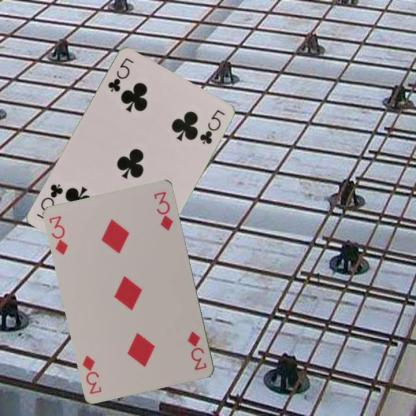3d: (47, 213, 70, 257), (185, 329, 208, 372)
5c: (105, 55, 135, 93)
